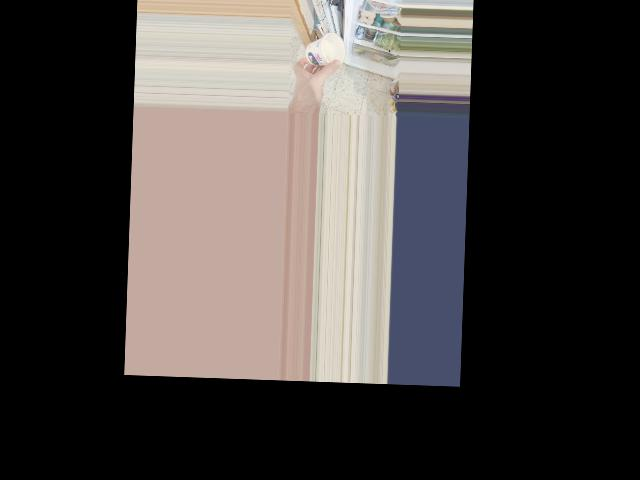cotage: (306, 34, 339, 66)
